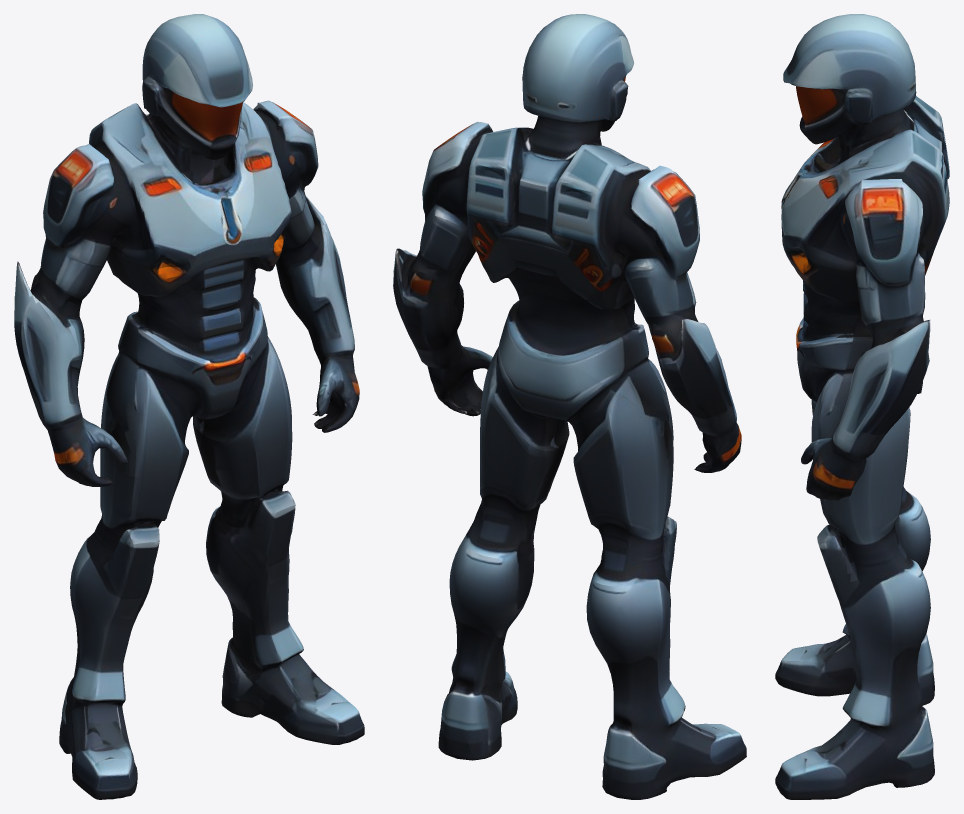
File: armored-suit.glb
3 views of the same model, side by side, from view 1: azimuth 30°, elevation 25°; view 2: azimuth 150°, elevation 25°; view 3: azimuth 270°, elevation 25° (orthographic).
Visible parts, largest first — view 1: model; view 2: model; view 3: model.
Part boxes in pixels (left/top/right/bottom): model: left=14, top=14, right=364, bottom=799; model: left=393, top=14, right=746, bottom=799; model: left=775, top=14, right=949, bottom=799.
Bounding box in the file's own units: 0.88 × 1.9 × 0.4206.
Materials: 1 (1 with a texture image).
